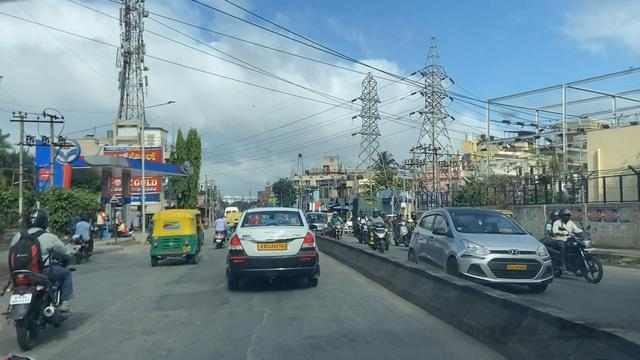LMV: (231, 209, 322, 284), (17, 215, 69, 346), (147, 211, 199, 263)
UnsurfacedRoad: (158, 289, 238, 316), (243, 290, 271, 356)
